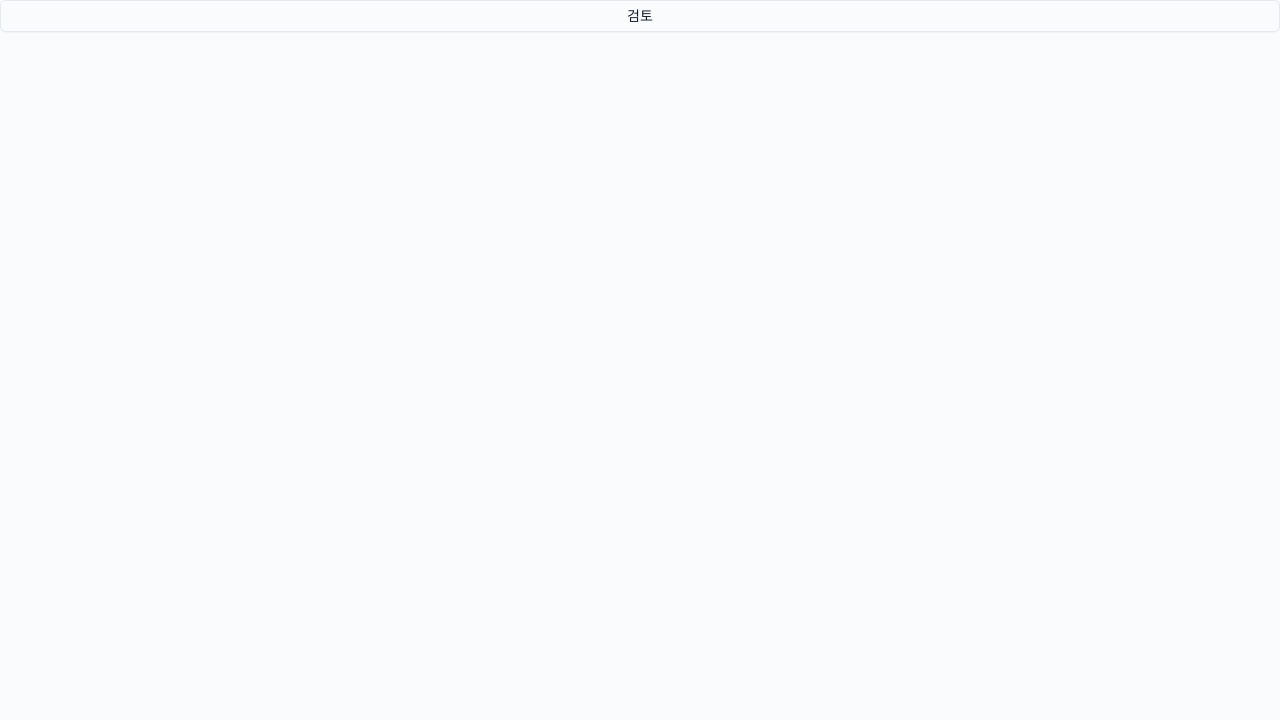
Test: 검토 단추 › 지난 버전은 목록에 없고 최신 버전 상세보기에서 원문과 함께 고른다
The image size is (1280, 720).
Click the button "검토" at [640, 16], box [0,0,1279,32]
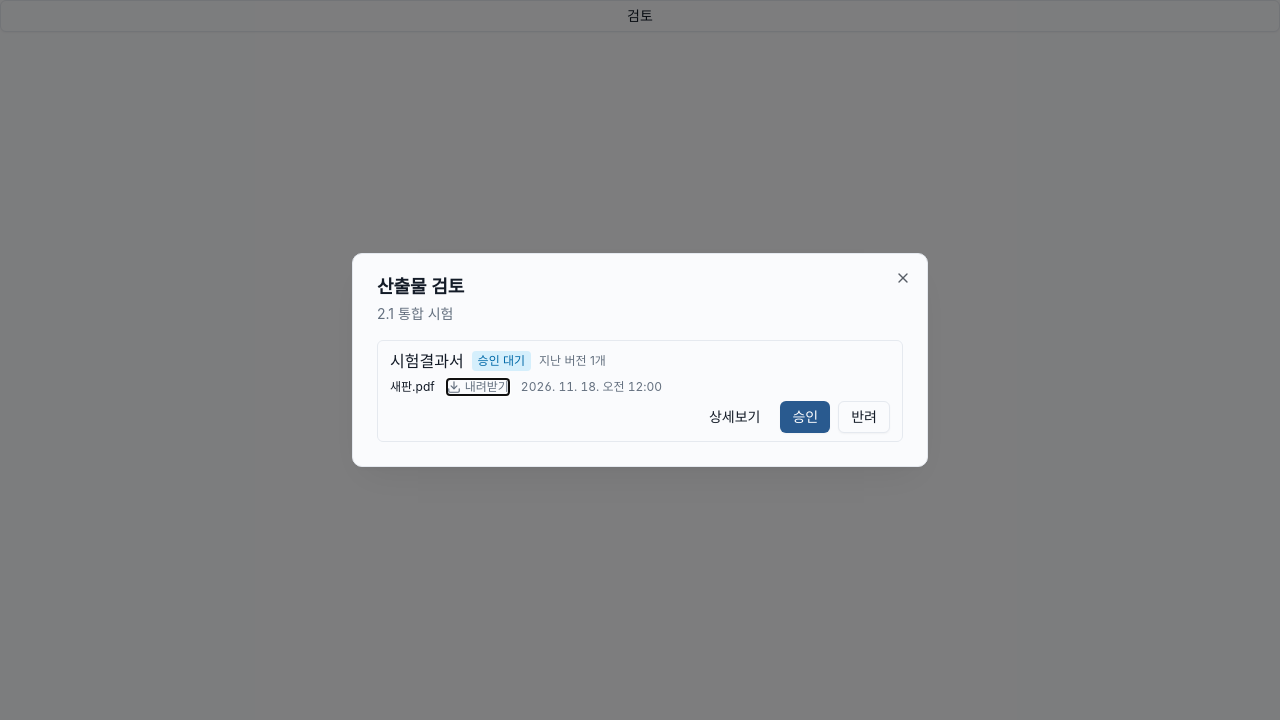
Expected: the text "앞판.pdf" is not shown
Expected: the text "지난 버전 1개" is shown, [539,353,606,369]
Click the button "상세보기" at [735, 417], box [697,401,772,433]
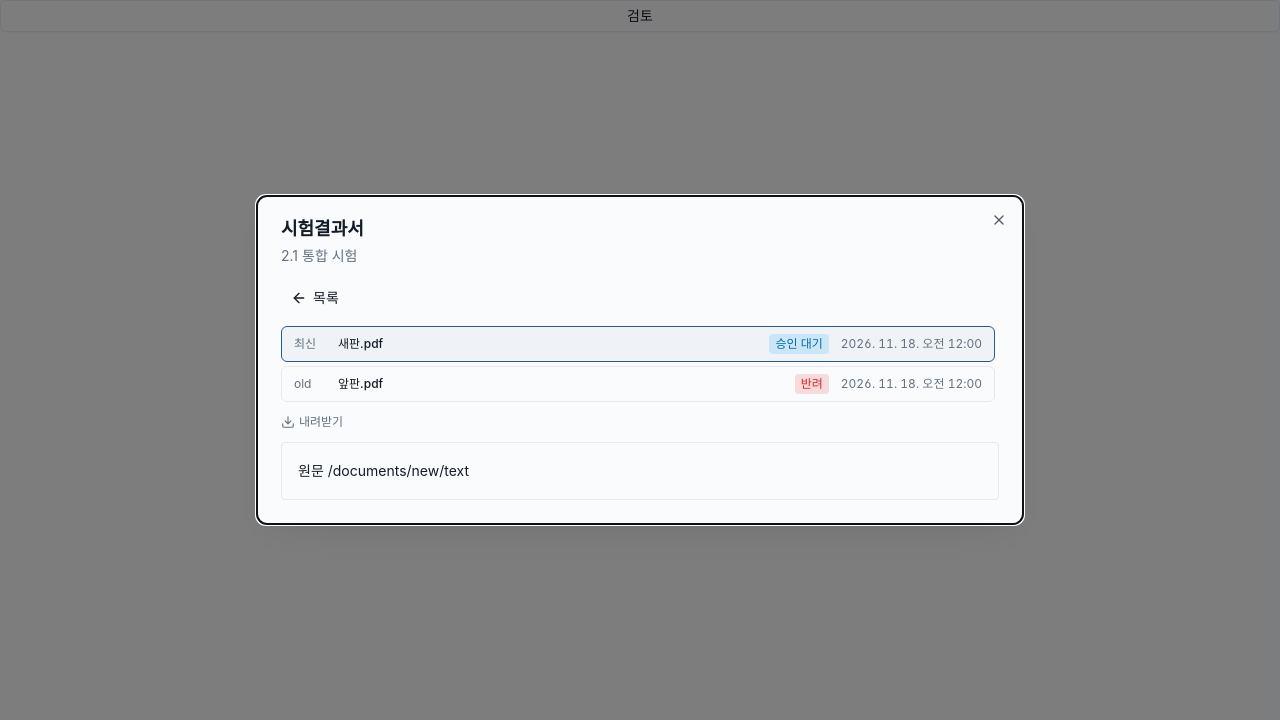
Expected: the text "원문 /documents/new/text" is shown, [298,462,469,479]
Click the button "앞판.pdf" at [361, 384], box [281,366,995,402]
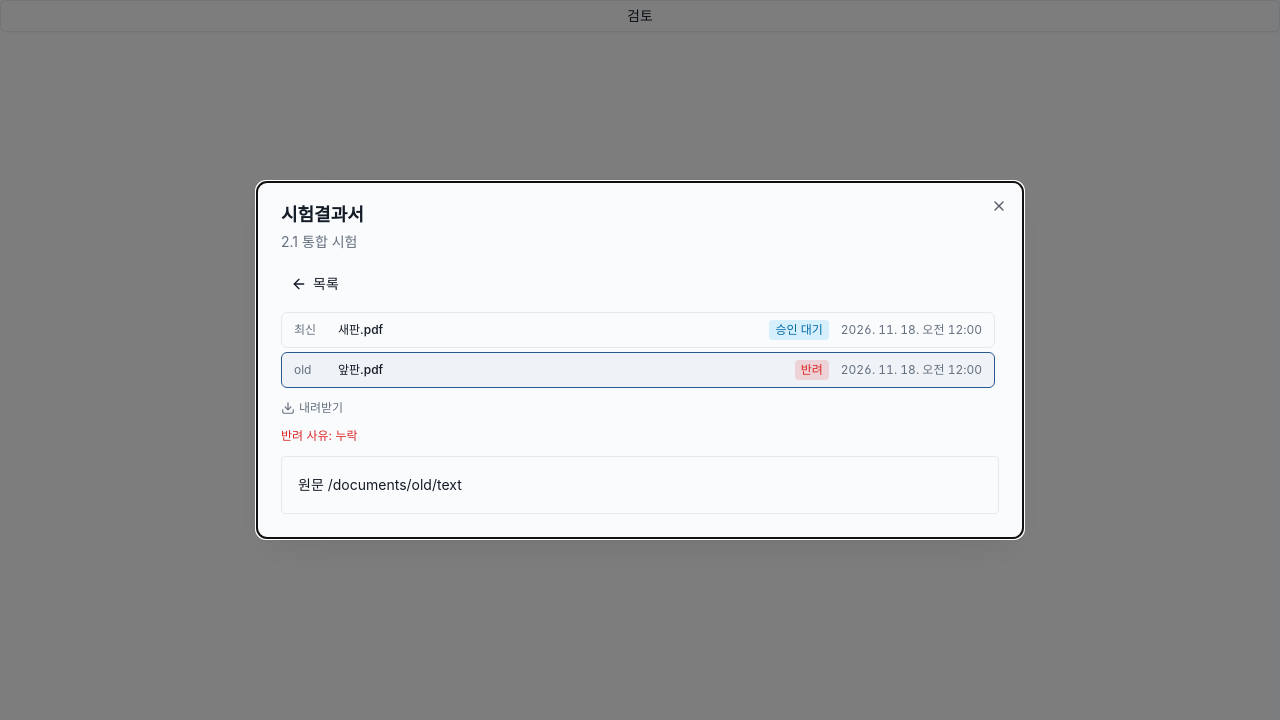
Expected: the text "원문 /documents/old/text" is shown, [298,476,462,493]
Expected: the text "반려 사유: 누락" is shown, [281,428,358,443]
